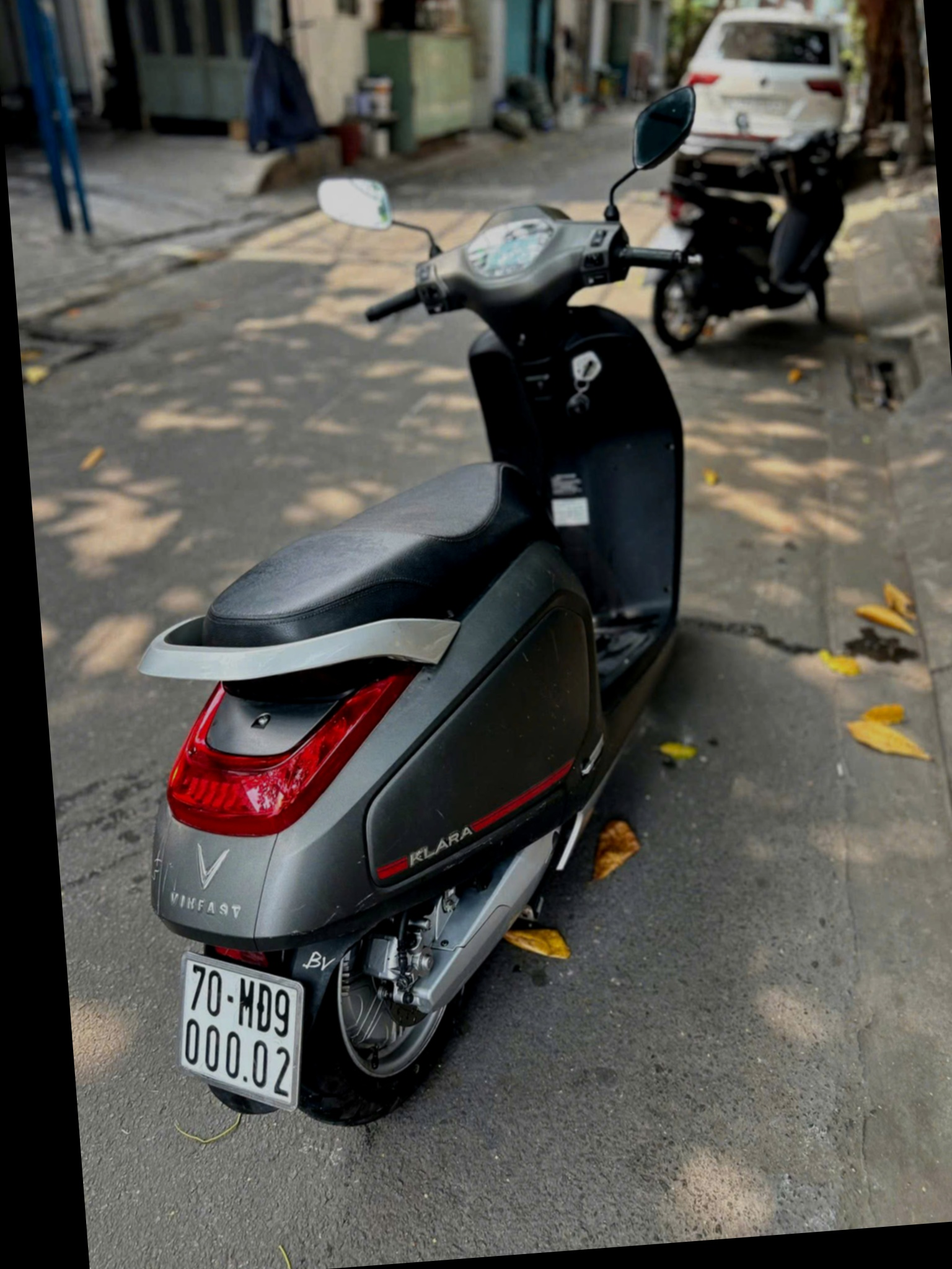Bien-so: (127, 954, 274, 1127)
